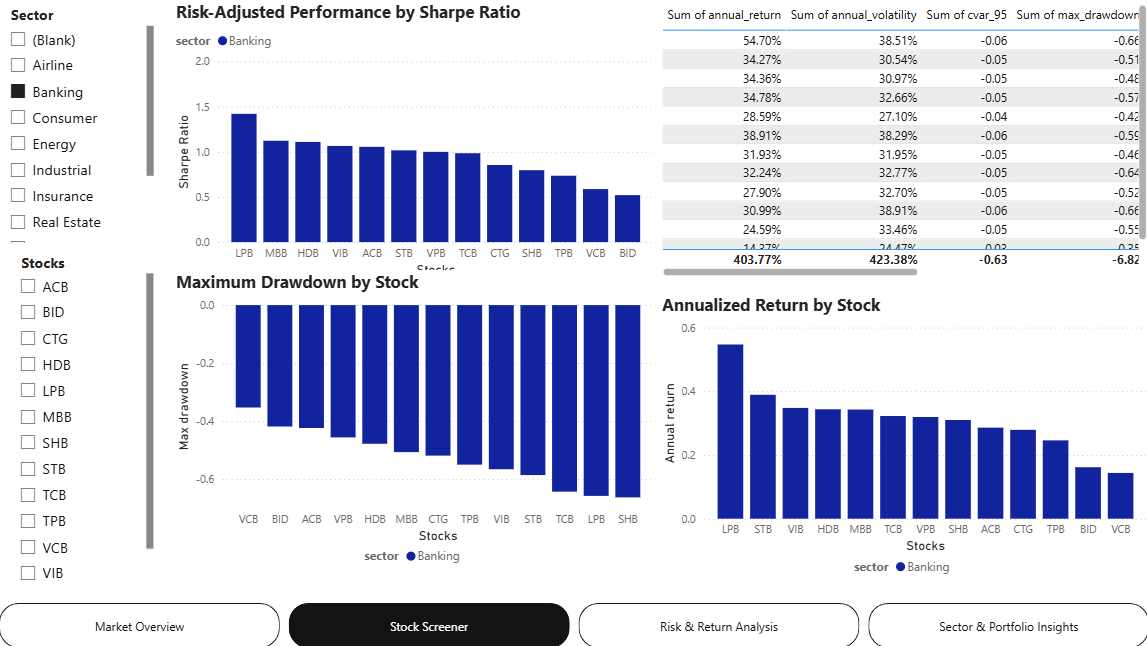

What the dashboard file says about the page in this screenshot:
{"tool":"powerbi","page":{"name":"Stock Screener","canvas":[1280,720],"ordinal":1},"visuals":[{"type":"pageNavigator","box":[0,670,1280,50],"z":0},{"type":"slicer","title":"Sector","fields":{"Values":["risk_metrics.sector"]},"box":[0,0,176.7,275],"z":1},{"type":"slicer","fields":{"Values":["risk_metrics.ticker"]},"box":[11.7,275,165,373.3],"z":2},{"type":"tableEx","fields":{"Values":["Sum(risk_metrics.annual_return)","Sum(risk_metrics.annual_volatility)","Sum(risk_metrics.cvar_95)","Sum(risk_metrics.max_drawdown)","Sum(risk_metrics.sharpe_ratio)","Sum(risk_metrics.total_return)","Sum(risk_metrics.var_95)","risk_metrics.ticker","risk_metrics.sector"]},"box":[731.7,0,548.3,311.7],"z":3},{"type":"clusteredColumnChart","title":"Risk-Adjusted Performance by Sharpe Ratio","fields":{"Category":["risk_metrics.ticker"],"Y":["Avg(risk_metrics.sharpe_ratio)"],"Series":["risk_metrics.sector"]},"box":[191.7,0,540,311.7],"z":4},{"type":"clusteredColumnChart","title":"Maximum Drawdown by Stock","fields":{"Category":["risk_metrics.ticker"],"Y":["Avg(risk_metrics.max_drawdown)"],"Series":["risk_metrics.sector"]},"box":[191.7,300,540,336.7],"z":5},{"type":"clusteredColumnChart","title":"Annualized Return by Stock","fields":{"Category":["risk_metrics.ticker"],"Y":["Avg(risk_metrics.annual_return)"],"Series":["risk_metrics.sector"]},"box":[731.7,325,548.3,323.3],"z":6}]}

Visuals, with their boxes in screenshot pixels (x1, y1, x2, y2), scaled from the page's 1280x720 canvas onto the 1147x646 screenshot:
pageNavigator: (0, 601, 1146, 645)
"Sector" slicer: (0, 0, 158, 247)
slicer - risk_metrics.ticker: (10, 247, 158, 582)
tableEx - Sum(risk_metrics.annual_return) x Sum(risk_metrics.annual_volatility): (656, 0, 1146, 280)
"Risk-Adjusted Performance by Sharpe Ratio" clusteredColumnChart: (172, 0, 656, 280)
"Maximum Drawdown by Stock" clusteredColumnChart: (172, 269, 656, 571)
"Annualized Return by Stock" clusteredColumnChart: (656, 292, 1146, 582)
